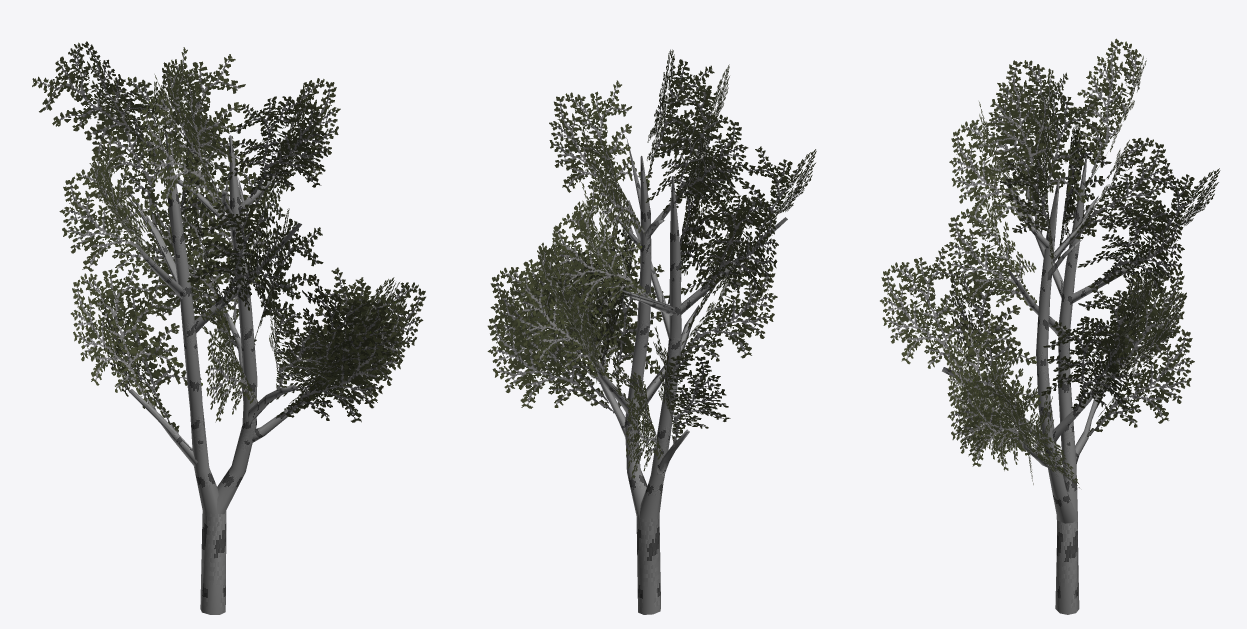
Rendered from BirchModel.fbx.
3 renders of one model, left to right at view 1: azimuth 30°, elevation 25°; view 2: azimuth 150°, elevation 25°; view 3: azimuth 270°, elevation 25°, orthographic. The views are drawn at different scales.
Parts seen in each view (by area): view 1: tree.094, tree.096; view 2: tree.094, tree.096; view 3: tree.094, tree.096.
Boxes of the visible parts, left/top/right/bottom form: tree.094: left=32, top=41, right=425, bottom=433; tree.096: left=122, top=134, right=320, bottom=614; tree.094: left=487, top=49, right=816, bottom=479; tree.096: left=592, top=138, right=787, bottom=614; tree.094: left=880, top=38, right=1220, bottom=487; tree.096: left=942, top=156, right=1177, bottom=614.
Size of the model in its own units: 1156 by 1759 by 1081.
